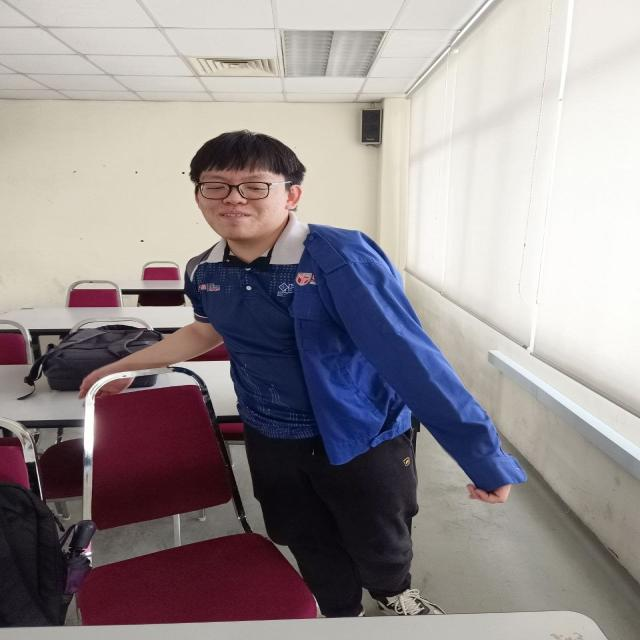person_without_labcoat: (79, 131, 525, 618)
